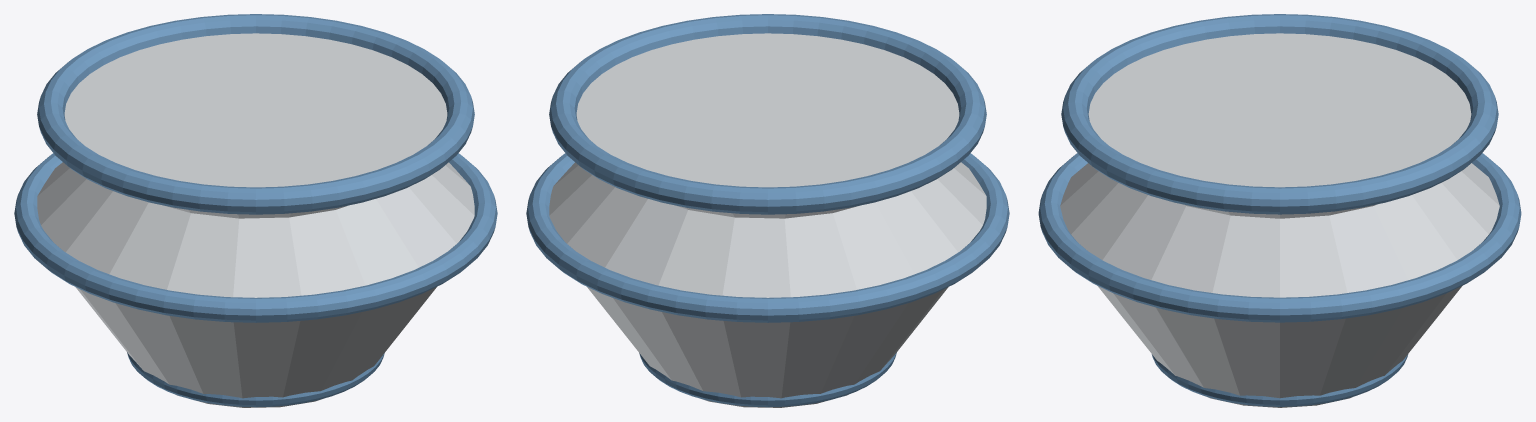
The model's file is enamel_spittoon.glb.
3 renders of one model, left to right at view 1: azimuth 30°, elevation 25°; view 2: azimuth 150°, elevation 25°; view 3: azimuth 270°, elevation 25°, orthographic.
Parts seen in each view (by area): view 1: enamel_spittoon; view 2: enamel_spittoon; view 3: enamel_spittoon.
Boxes of the visible parts, left/top/right/bottom form: enamel_spittoon: left=14, top=14, right=497, bottom=407; enamel_spittoon: left=526, top=14, right=1009, bottom=407; enamel_spittoon: left=1038, top=14, right=1521, bottom=407.
Size of the model in its own units: 0.212 by 0.124 by 0.212.
